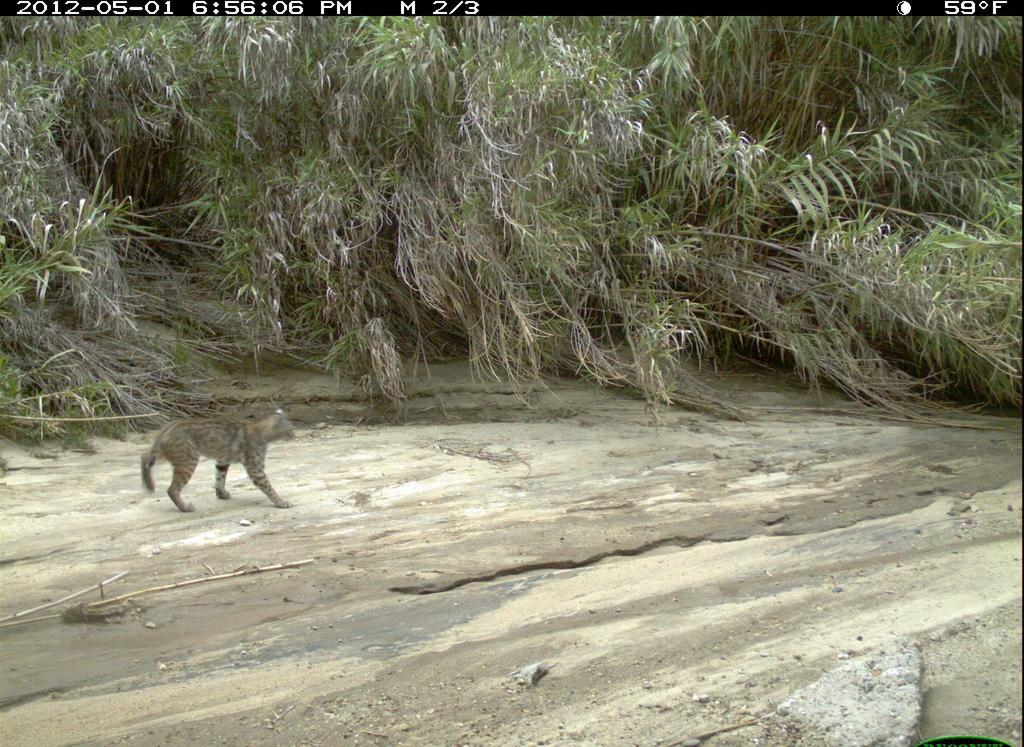bobcat: (137, 397, 310, 515)
